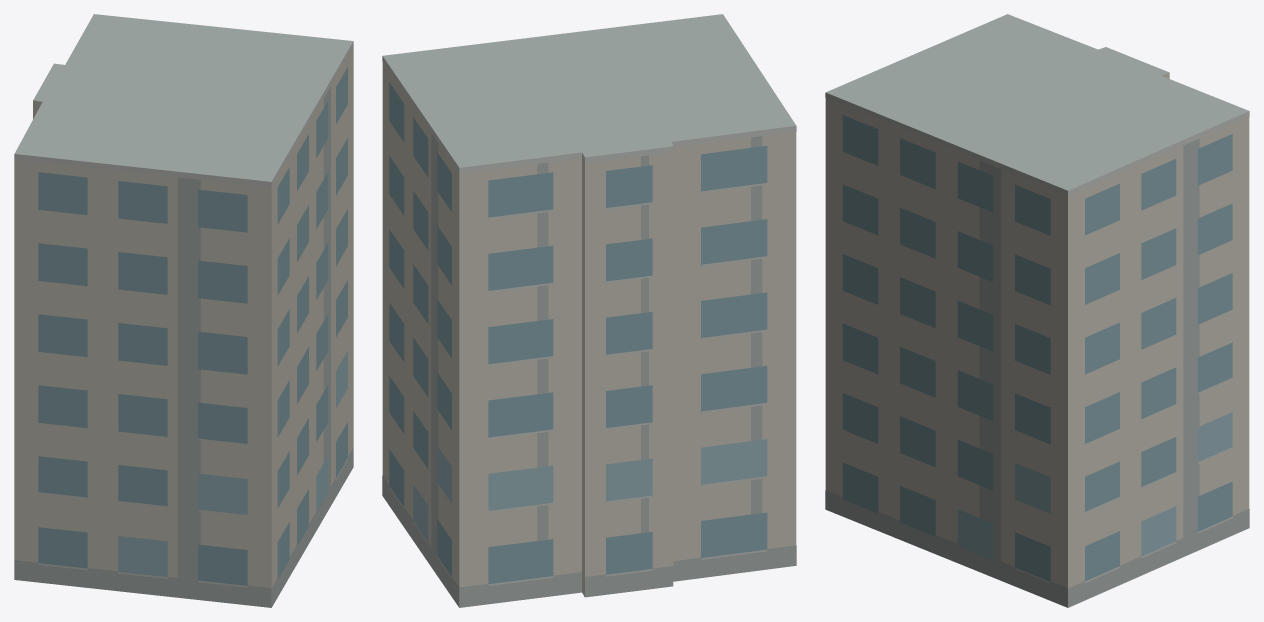
File: survey-upis-32750081.glb
The picture shows the model from 3 angles, left to right: view 1: azimuth 30°, elevation 25°; view 2: azimuth 150°, elevation 25°; view 3: azimuth 270°, elevation 25°; orthographic projection. The views are drawn at different scales.
Visible parts, largest first — view 1: survey-upis-32750081.tmp; view 2: survey-upis-32750081.tmp; view 3: survey-upis-32750081.tmp.
Boxes of the visible parts, x1,y1,x2,y2 form: survey-upis-32750081.tmp: (14,14,353,607); survey-upis-32750081.tmp: (382,14,796,607); survey-upis-32750081.tmp: (825,14,1249,607).
Bounding box in the file's own units: 16.64 × 18.3 × 16.86.
